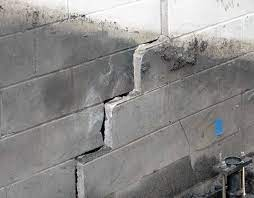stairstep_crack: (72, 35, 163, 197)
